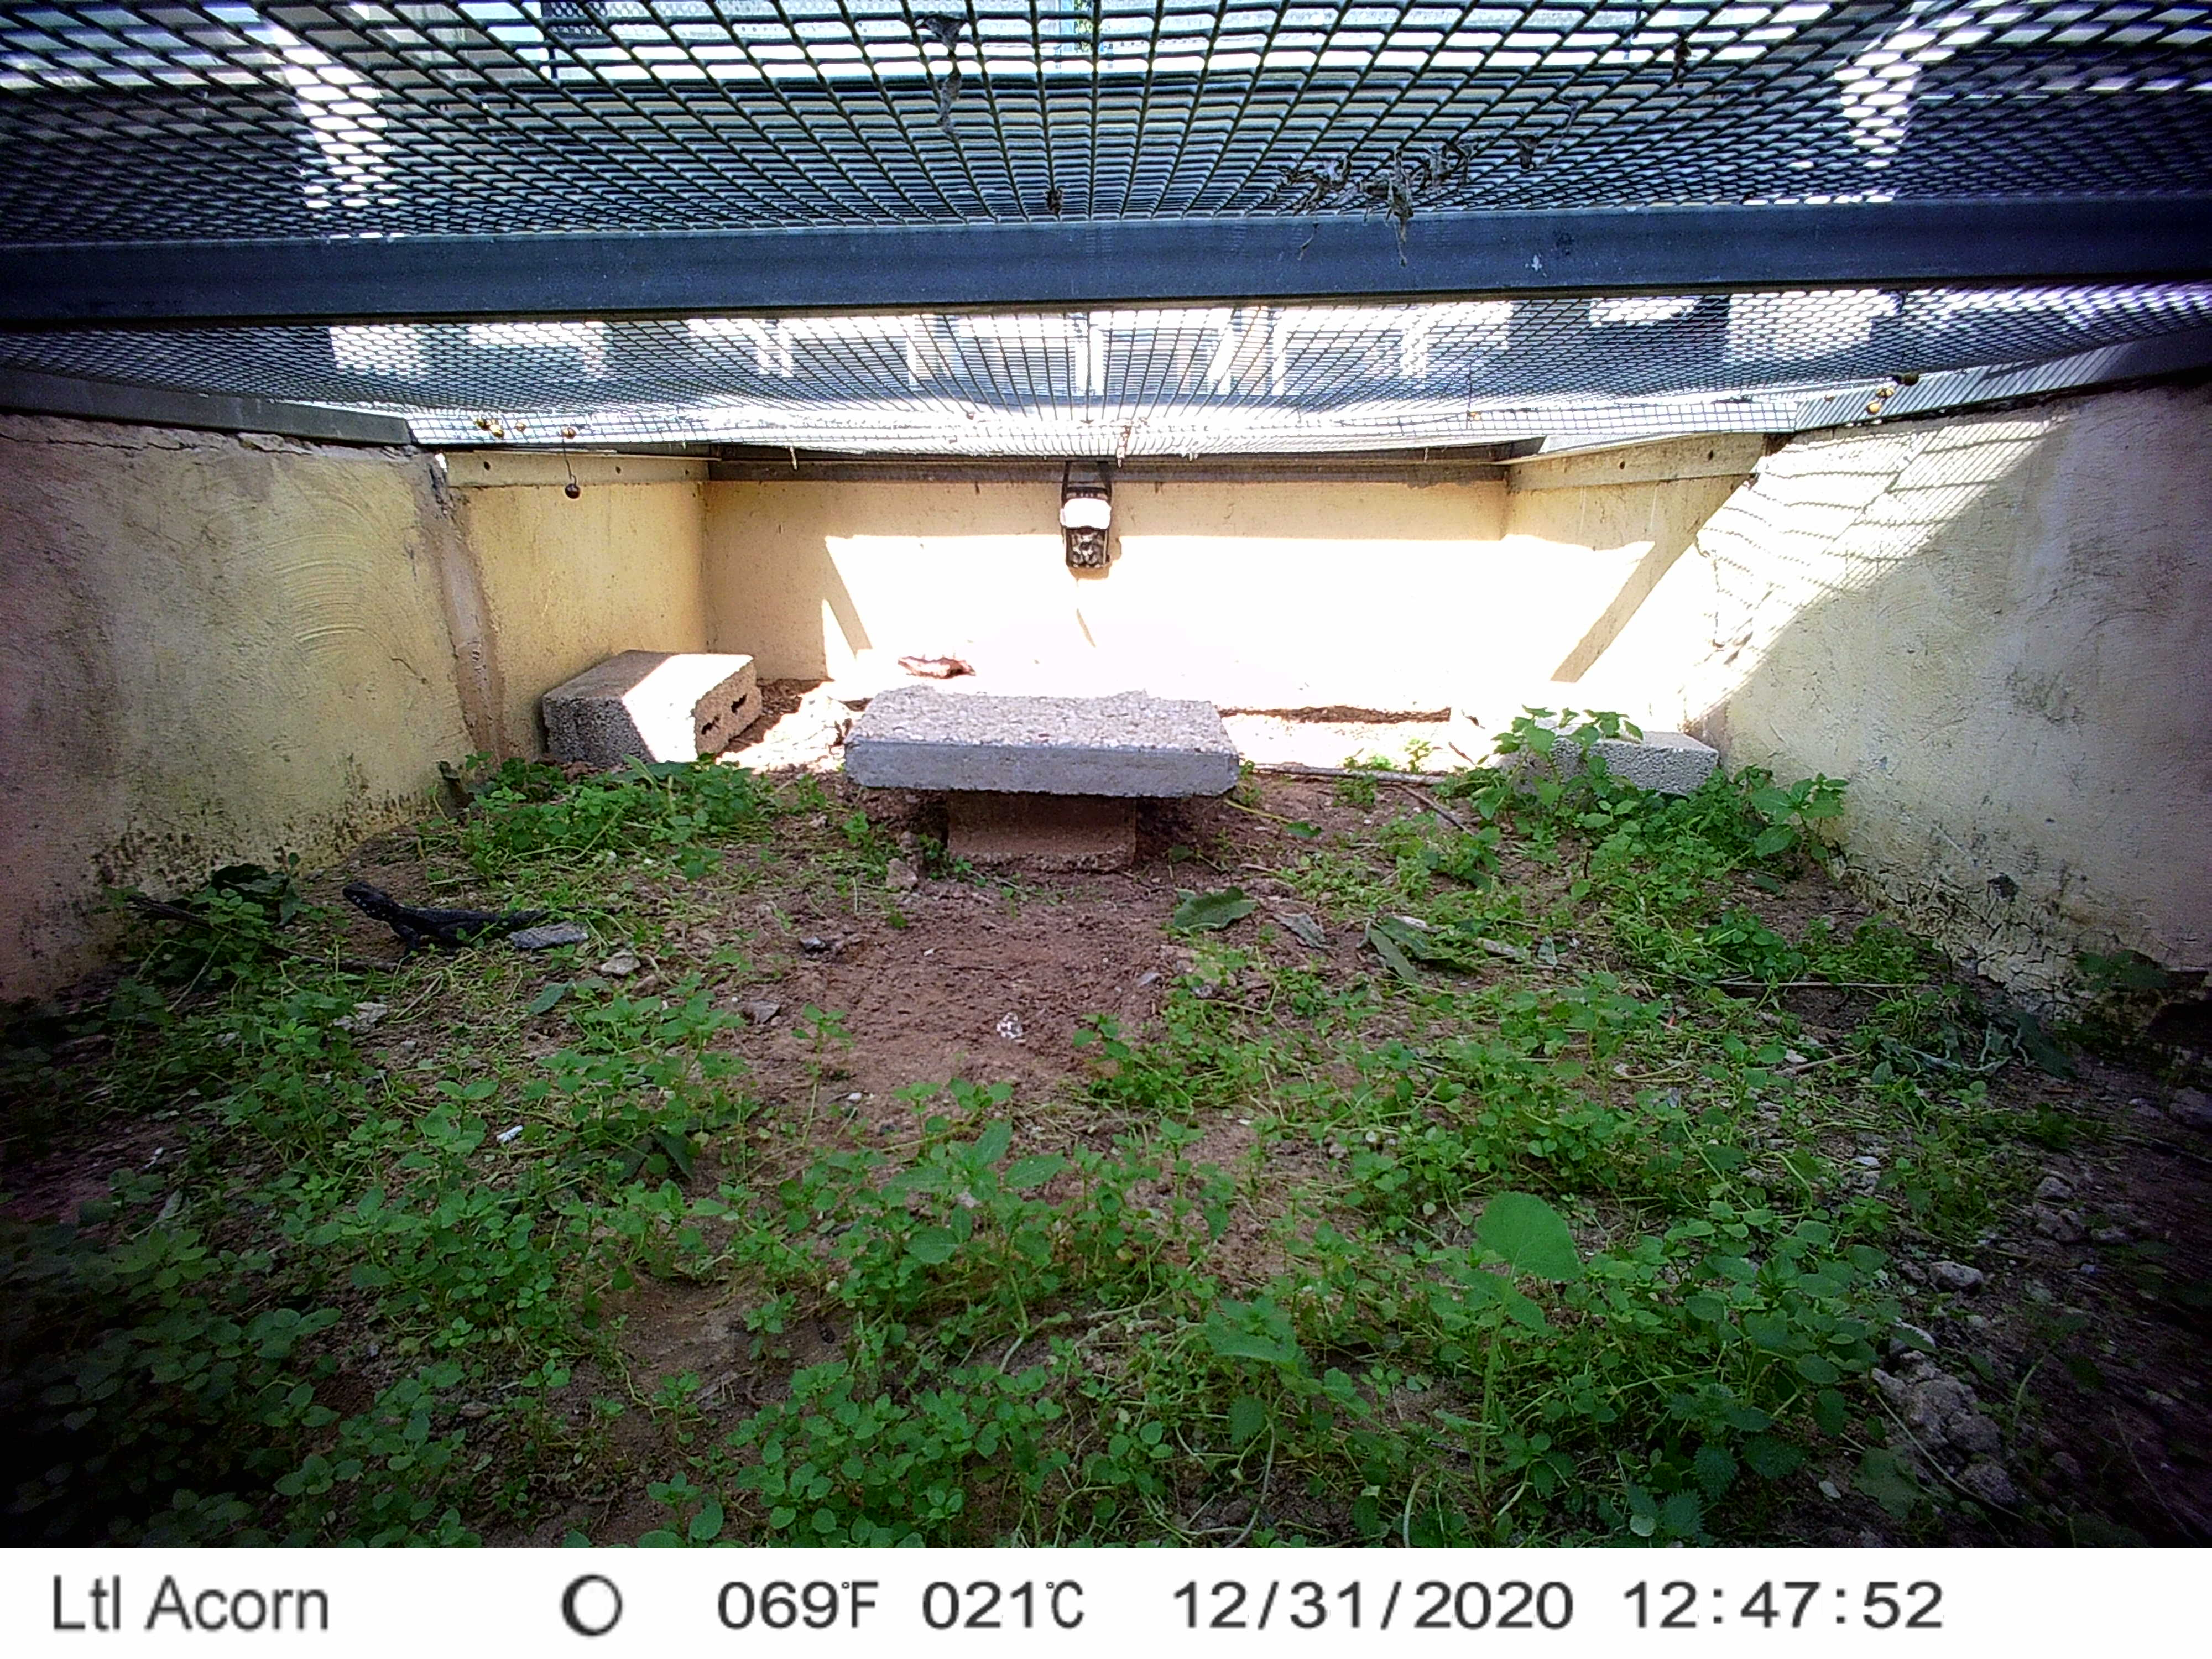lizard: (336, 873, 665, 962)
